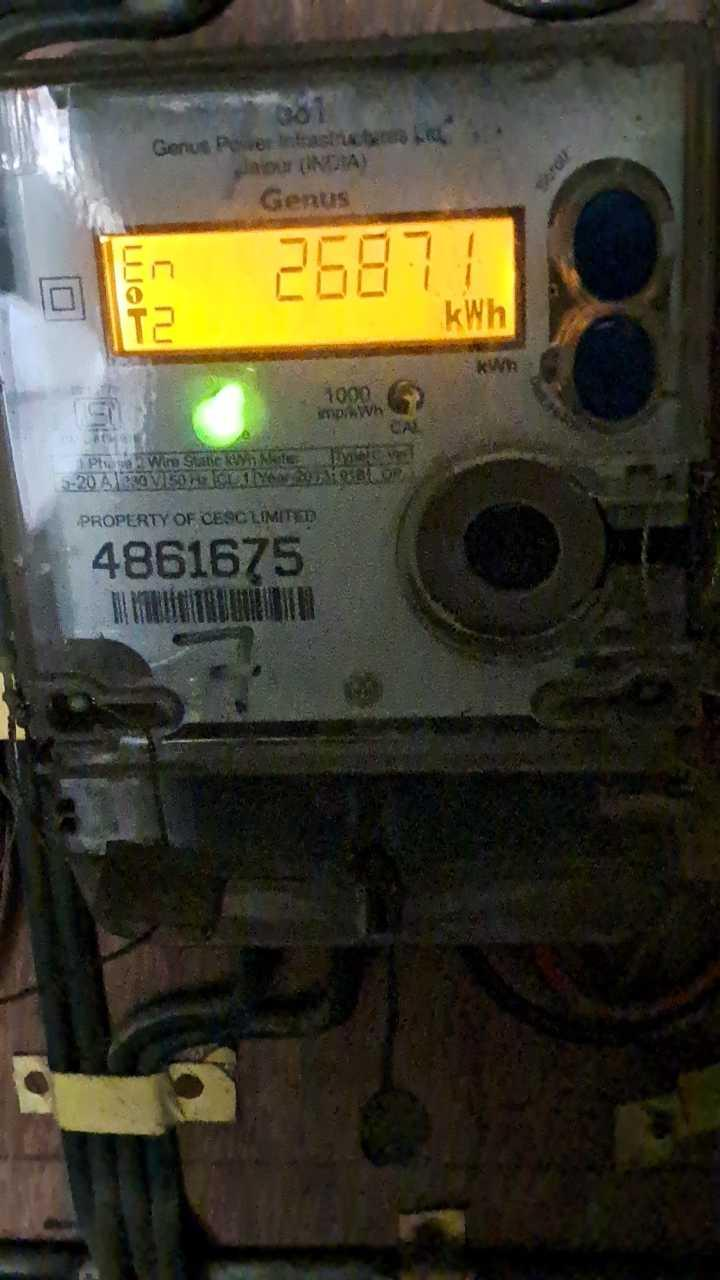meter_readings: (260, 224, 501, 312)
serial_number: (67, 532, 309, 579)
